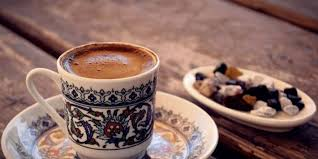kahve: (25, 41, 162, 159)
